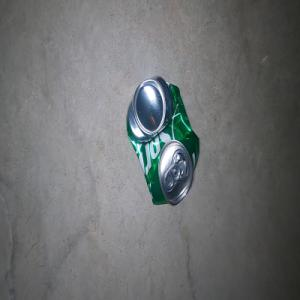SodaCan: (125, 75, 199, 205)
